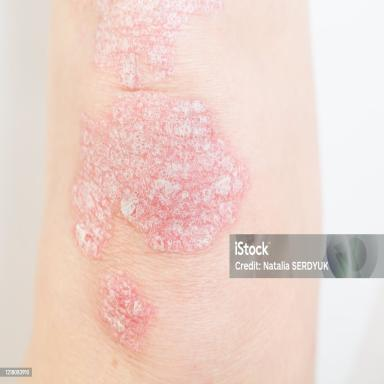Psoriasis: (71, 0, 249, 258), (99, 270, 156, 351), (155, 158, 157, 160)
